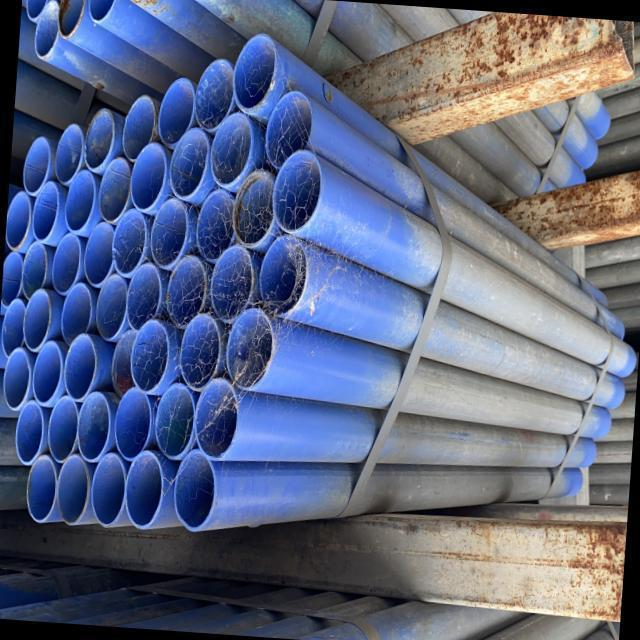pipe: (269, 146, 325, 236), (223, 304, 278, 393), (256, 232, 311, 321), (262, 88, 316, 173), (170, 447, 222, 535), (191, 375, 243, 463), (207, 242, 259, 326), (228, 166, 280, 250), (230, 30, 280, 115), (207, 110, 256, 191), (121, 447, 168, 531), (176, 311, 224, 393), (162, 251, 210, 332), (152, 381, 199, 461), (127, 316, 173, 397), (192, 56, 239, 134), (194, 186, 240, 265), (87, 450, 131, 531), (166, 125, 212, 202), (111, 383, 155, 462), (147, 195, 191, 272), (127, 138, 171, 215), (123, 259, 165, 337), (154, 75, 197, 149), (73, 388, 114, 463), (109, 206, 150, 279), (61, 330, 101, 403), (119, 92, 159, 165), (54, 452, 93, 526), (57, 280, 95, 353), (45, 393, 83, 465), (93, 271, 131, 343), (96, 155, 134, 224), (23, 452, 59, 524), (61, 167, 98, 237), (30, 338, 67, 407), (109, 327, 144, 399), (81, 219, 117, 289), (81, 105, 118, 173), (13, 397, 47, 467), (20, 285, 54, 353), (29, 177, 62, 245), (1, 344, 34, 411), (53, 121, 87, 186), (50, 230, 83, 296), (20, 134, 52, 197), (19, 239, 50, 303), (0, 295, 30, 360), (4, 188, 33, 253), (0, 249, 26, 311)
